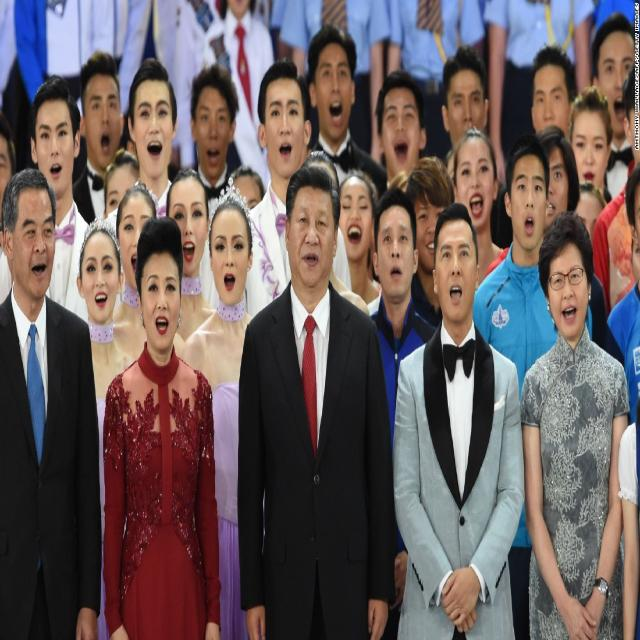body: (233, 158, 396, 639), (390, 199, 525, 640), (471, 145, 588, 639), (97, 214, 224, 639), (0, 163, 102, 638), (520, 208, 630, 639), (366, 191, 439, 640), (181, 196, 254, 640), (239, 54, 354, 326), (484, 1, 594, 248), (75, 218, 135, 640), (0, 72, 93, 326), (593, 156, 640, 639), (278, 0, 392, 169), (391, 0, 483, 169), (306, 23, 389, 202), (202, 0, 276, 196), (103, 55, 179, 236), (14, 0, 120, 123), (164, 166, 218, 352), (451, 128, 511, 293), (403, 152, 458, 329), (72, 51, 126, 228), (589, 11, 636, 203), (112, 184, 158, 365), (187, 60, 241, 211), (121, 0, 202, 90), (374, 68, 428, 194), (338, 168, 382, 318), (436, 40, 492, 154), (568, 85, 614, 206), (530, 46, 580, 142), (0, 0, 14, 299), (540, 126, 577, 227), (104, 148, 143, 214), (227, 160, 270, 214), (299, 154, 342, 202), (620, 60, 640, 154), (597, 0, 640, 33), (386, 168, 412, 198), (442, 149, 457, 194), (256, 0, 284, 24)
